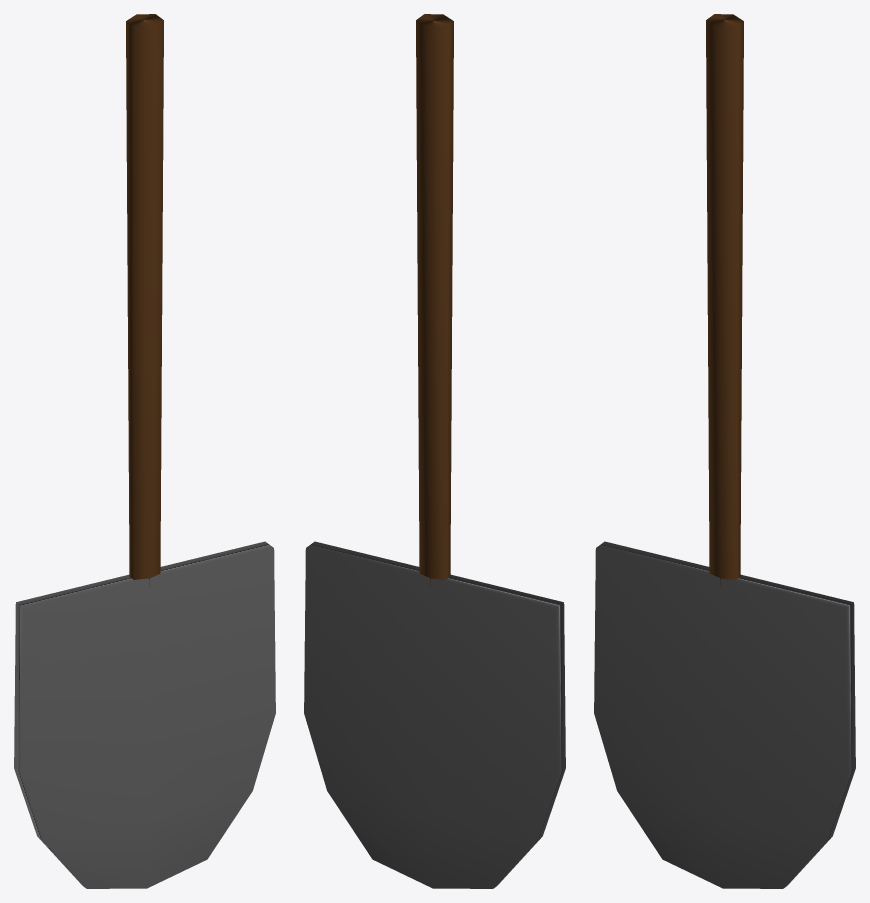
Rendered from shovel.glb.
The picture shows the model from 3 angles, left to right: view 1: azimuth 30°, elevation 25°; view 2: azimuth 150°, elevation 25°; view 3: azimuth 330°, elevation 25°; orthographic projection.
Visible parts, largest first — view 1: Cube, Cylinder; view 2: Cube, Cylinder; view 3: Cube, Cylinder.
Part boxes in pixels (x1,y1,x2,y2): Cube: (14, 541, 275, 888); Cylinder: (126, 14, 163, 586); Cube: (304, 541, 565, 888); Cylinder: (416, 14, 453, 586); Cube: (594, 541, 855, 888); Cylinder: (706, 14, 743, 586).
Bounding box in the file's own units: 0.1708 × 0.5593 × 0.02.
